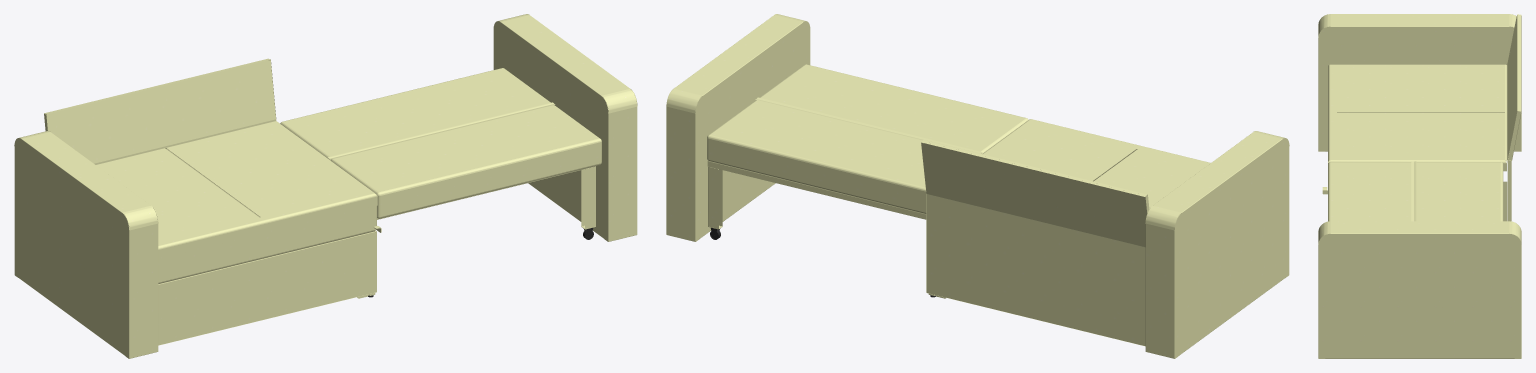
The picture shows the model from 3 angles, left to right: view 1: azimuth 30°, elevation 25°; view 2: azimuth 150°, elevation 25°; view 3: azimuth 270°, elevation 25°; orthographic projection. The views are drawn at different scales.
Parts seen in each view (by area): view 1: eb19cee1-2e35-4d39-8cf8-e17c0e6f6e8f, 97f1be50-5371-47b9-b583-e5881154258d, bfc1856c-372c-460d-8bec-02524977f96a, 7e572160-817a-48ba-8f3f-022125e67803; view 2: 97f1be50-5371-47b9-b583-e5881154258d, eb19cee1-2e35-4d39-8cf8-e17c0e6f6e8f, bfc1856c-372c-460d-8bec-02524977f96a, 7e572160-817a-48ba-8f3f-022125e67803; view 3: 97f1be50-5371-47b9-b583-e5881154258d, eb19cee1-2e35-4d39-8cf8-e17c0e6f6e8f, bfc1856c-372c-460d-8bec-02524977f96a, 7e572160-817a-48ba-8f3f-022125e67803.
Part boxes in pixels (<box>): eb19cee1-2e35-4d39-8cf8-e17c0e6f6e8f: <box>96,68,601,283</box>; 97f1be50-5371-47b9-b583-e5881154258d: <box>14,14,637,358</box>; bfc1856c-372c-460d-8bec-02524977f96a: <box>44,58,376,345</box>; 7e572160-817a-48ba-8f3f-022125e67803: <box>258,166,595,298</box>; 97f1be50-5371-47b9-b583-e5881154258d: <box>666,14,1289,358</box>; eb19cee1-2e35-4d39-8cf8-e17c0e6f6e8f: <box>707,64,1210,214</box>; bfc1856c-372c-460d-8bec-02524977f96a: <box>921,140,1149,346</box>; 7e572160-817a-48ba-8f3f-022125e67803: <box>707,161,945,298</box>; 97f1be50-5371-47b9-b583-e5881154258d: <box>1318,14,1521,358</box>; eb19cee1-2e35-4d39-8cf8-e17c0e6f6e8f: <box>1328,64,1507,221</box>; bfc1856c-372c-460d-8bec-02524977f96a: <box>1507,14,1521,221</box>; 7e572160-817a-48ba-8f3f-022125e67803: <box>1322,112,1507,221</box>.
Bounding box in the file's own units: 2.26 × 0.6844 × 0.8839.
Materials: 2 (1 with a texture image).
